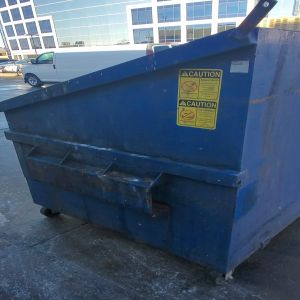Dumpster: (1, 72, 300, 287)
